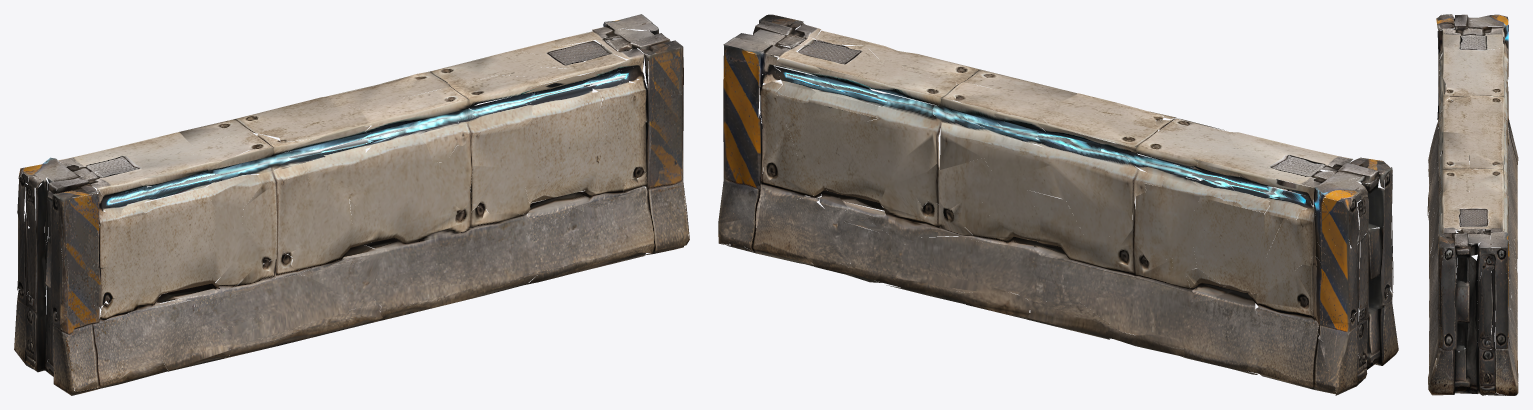
File: desert-race-divider.glb
The picture shows the model from 3 angles, left to right: view 1: azimuth 30°, elevation 25°; view 2: azimuth 150°, elevation 25°; view 3: azimuth 270°, elevation 25°; orthographic projection. The views are drawn at different scales.
Parts seen in each view (by area): view 1: desert-race-divider; view 2: desert-race-divider; view 3: desert-race-divider.
Boxes of the visible parts, box(x1,y1,x2,y2) form: desert-race-divider: box(14, 14, 689, 395); desert-race-divider: box(718, 14, 1398, 395); desert-race-divider: box(1427, 14, 1518, 395).
Bounding box in the file's own units: 4.02 × 1.2 × 0.6565.
1 material, 1 textured.
